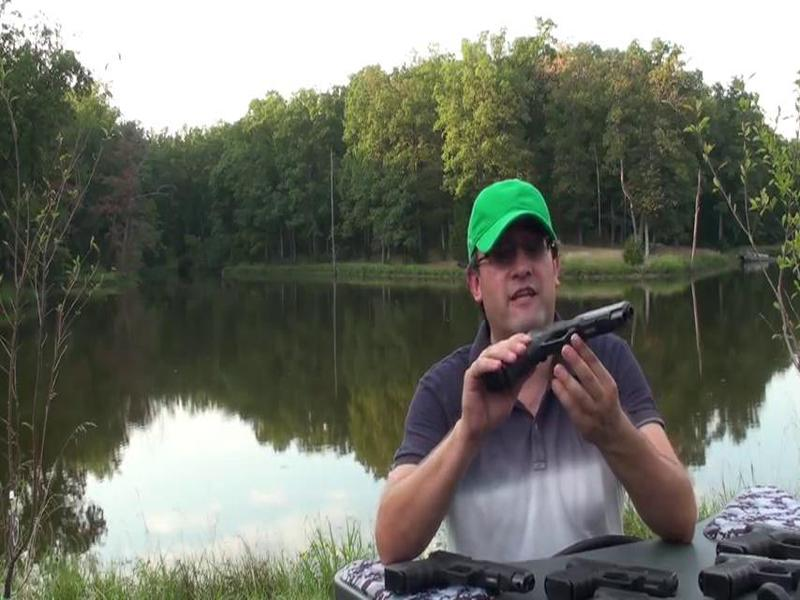Pistola: (483, 297, 645, 383), (376, 536, 536, 594), (545, 543, 678, 600)
